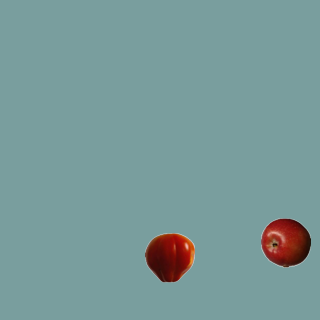Apple Braeburn: (260, 217, 310, 267)
Tomato 1: (144, 232, 194, 282)
